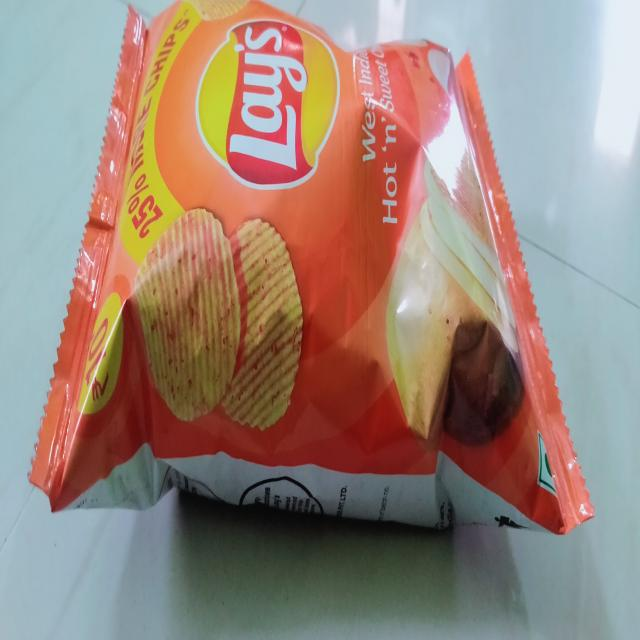lays: (32, 0, 592, 572)
